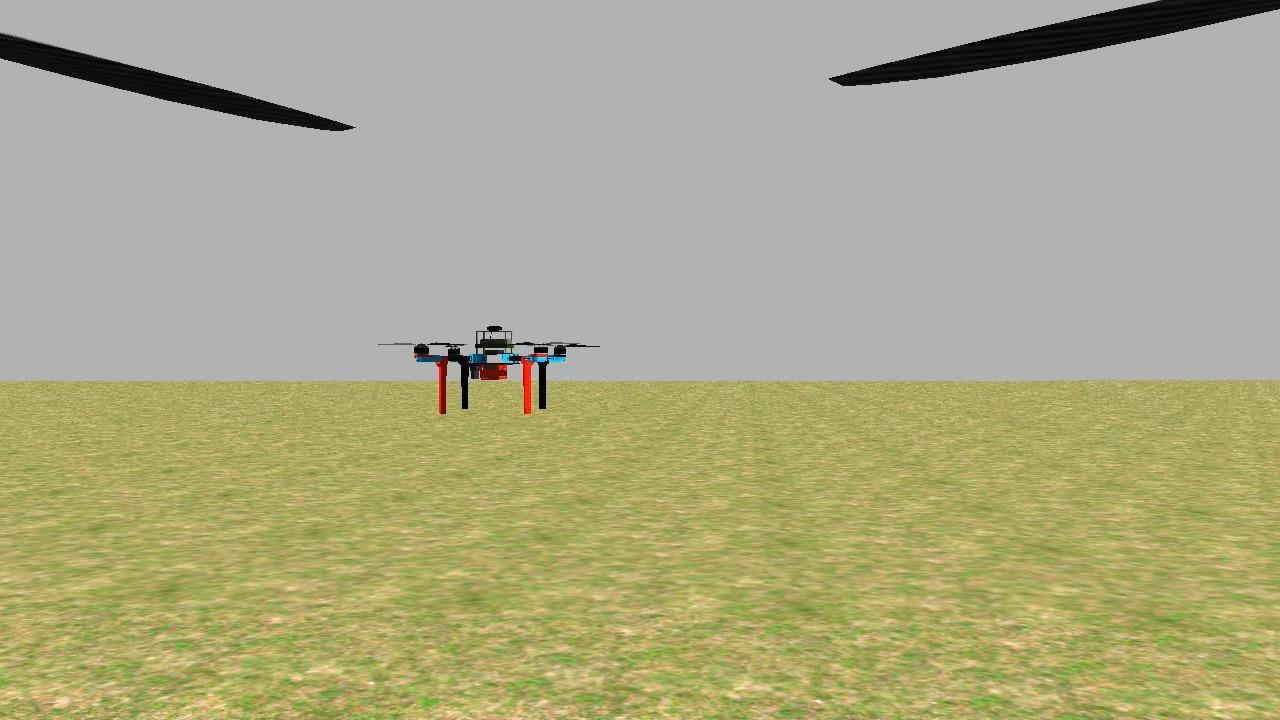UAV: (405, 311, 573, 426)
